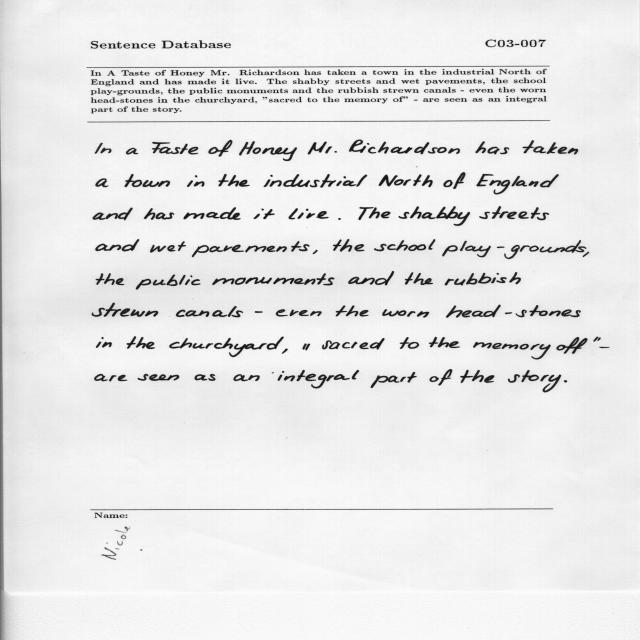word: (443, 240, 587, 259), (169, 337, 284, 357), (192, 241, 309, 257), (446, 305, 581, 318), (476, 174, 559, 194), (213, 273, 335, 286), (349, 140, 460, 154), (278, 370, 360, 388), (264, 174, 367, 188), (399, 206, 470, 226), (473, 342, 551, 360), (508, 370, 561, 393), (239, 141, 297, 161), (445, 272, 521, 286), (136, 275, 201, 290), (480, 207, 549, 221), (92, 303, 158, 317), (523, 140, 579, 155), (322, 338, 385, 350), (183, 207, 241, 220), (176, 306, 243, 317), (371, 372, 417, 388), (374, 239, 435, 251), (379, 175, 433, 188), (348, 272, 394, 286), (125, 174, 170, 187), (96, 239, 140, 252), (152, 142, 198, 154), (557, 337, 588, 354), (93, 208, 133, 221), (288, 209, 329, 220), (475, 142, 509, 155), (461, 370, 495, 383), (150, 241, 186, 253), (382, 309, 429, 318), (218, 174, 250, 187), (359, 207, 391, 220), (209, 140, 233, 157), (333, 239, 364, 252), (308, 142, 337, 155), (430, 369, 452, 386), (233, 372, 274, 381), (276, 309, 322, 317), (405, 272, 433, 285), (127, 336, 155, 349), (336, 306, 369, 317), (144, 208, 174, 220), (444, 173, 466, 189), (429, 337, 460, 348), (96, 274, 124, 286), (138, 374, 179, 381), (95, 374, 128, 381), (400, 337, 419, 349), (254, 209, 275, 219), (187, 175, 204, 187), (95, 143, 112, 154), (96, 337, 112, 348), (195, 374, 216, 381), (96, 179, 108, 188), (126, 148, 138, 154), (302, 344, 310, 351), (593, 337, 601, 342), (583, 252, 589, 257), (282, 349, 288, 354), (313, 250, 318, 254), (255, 311, 262, 313), (599, 347, 610, 348), (564, 380, 567, 383), (338, 218, 341, 220)
